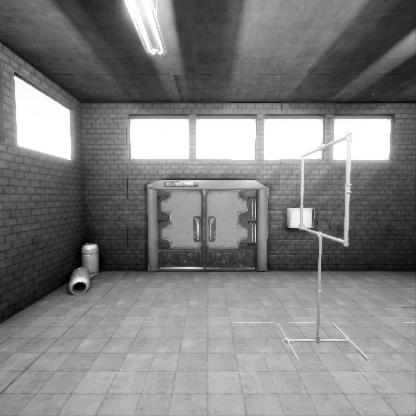gate: (300, 175, 353, 287)
